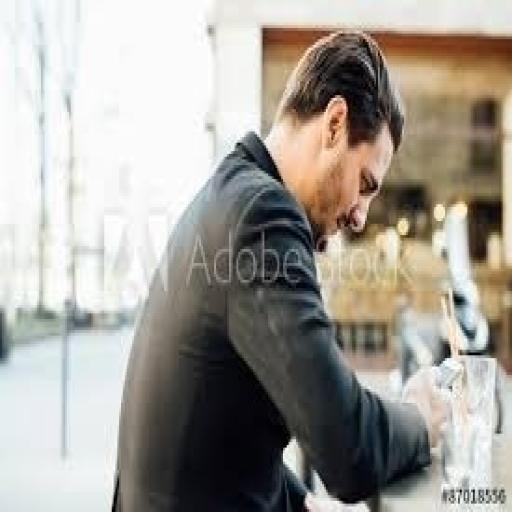texting: (108, 28, 458, 509)
